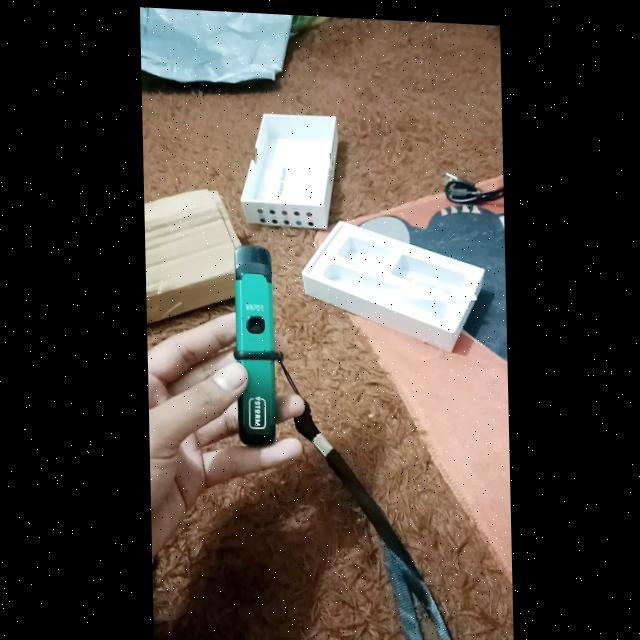vape: (231, 237, 276, 449)
